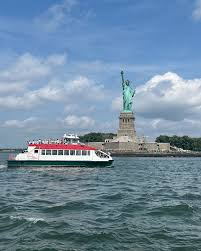boat: (7, 134, 114, 168)
